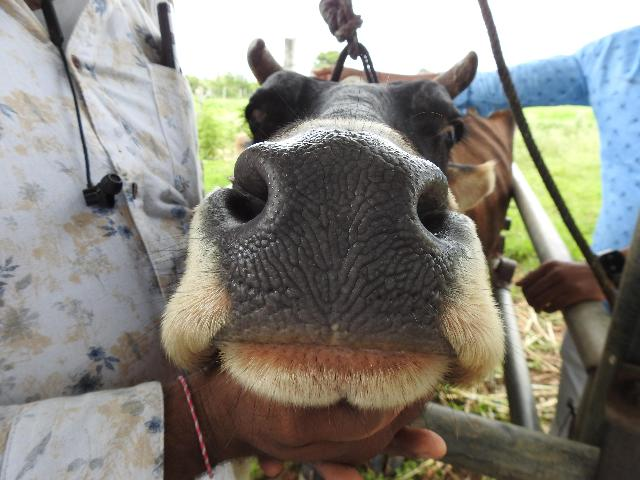Muzzle: (268, 144, 412, 334)
